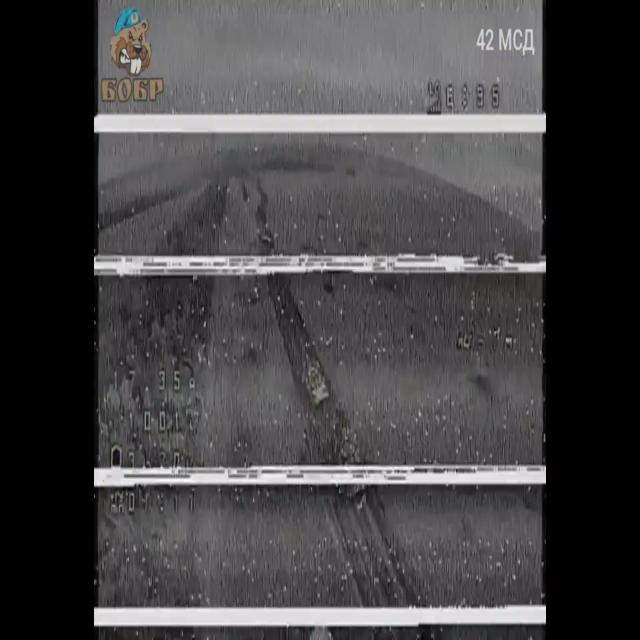apc: (332, 421, 369, 506), (300, 357, 332, 409)
